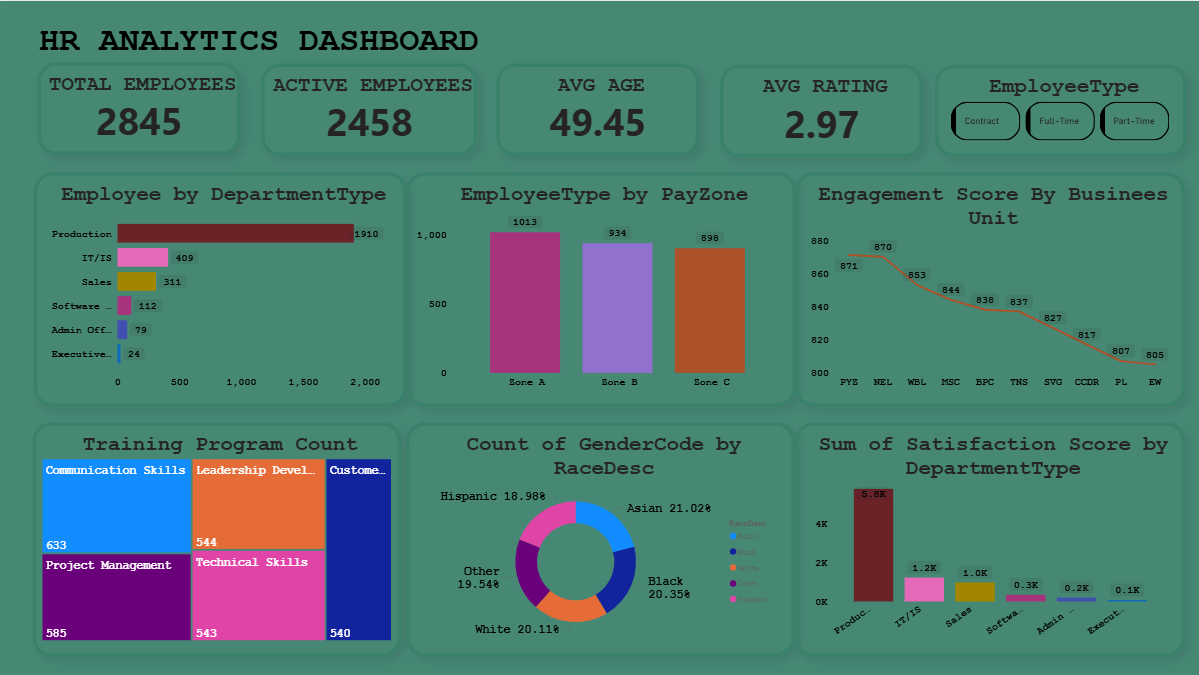

This screenshot's page, from the dashboard's own definition file:
{"tool":"powerbi","page":{"name":"HR ANALYTICS DASHBOARD","canvas":[1920,1080],"ordinal":0},"visuals":[{"type":"textbox","box":[51.9,23.4,725.3,82.1],"z":0},{"type":"card","title":"TOTAL EMPLOYEES","fields":{"Values":["CountNonNull(Cleaned_HR_Data_Analysis.Employee ID)"]},"box":[60.2,98.2,325,147.9],"z":1000},{"type":"card","title":"ACTIVE EMPLOYEES","fields":{"Values":["Cleaned_HR_Data_Analysis.Active Employees"]},"box":[417.2,100.3,345.8,147.9],"z":2000},{"type":"card","title":"AVG AGE","fields":{"Values":["Cleaned_HR_Data_Analysis.Avg Age"]},"box":[795,100.3,325,147.9],"z":3000},{"type":"card","title":"AVG RATING","fields":{"Values":["Cleaned_HR_Data_Analysis.Avg Rating"]},"box":[1151.9,102.4,325,147.9],"z":4000},{"type":"barChart","title":"Employee by DepartmentType","fields":{"Category":["Cleaned_HR_Data_Analysis.DepartmentType"],"Y":["CountNonNull(Cleaned_HR_Data_Analysis.Employee ID)"]},"box":[53.7,273.8,596.7,374.9],"z":5000},{"type":"clusteredColumnChart","title":"EmployeeType by PayZone","fields":{"Category":["Cleaned_HR_Data_Analysis.PayZone"],"Y":["CountNonNull(Cleaned_HR_Data_Analysis.EmployeeType)"]},"box":[649.3,273.8,624.2,374.9],"z":6000},{"type":"lineChart","title":"Engagement Score By Businees Unit","fields":{"Category":["Cleaned_HR_Data_Analysis.BusinessUnit"],"Y":["Sum(Cleaned_HR_Data_Analysis.Engagement Score)"]},"box":[1271.8,273.8,624.2,374.9],"z":7000},{"type":"treemap","title":"Training Program Count","fields":{"Group":["Cleaned_HR_Data_Analysis.Training Program Name"],"Values":["CountNonNull(Cleaned_HR_Data_Analysis.Training Type)"]},"box":[52.6,674.4,589.9,374.9],"z":8000},{"type":"donutChart","fields":{"Category":["Cleaned_HR_Data_Analysis.RaceDesc"],"Y":["CountNonNull(Cleaned_HR_Data_Analysis.GenderCode)"]},"box":[649.3,674.4,621.9,374.9],"z":8001},{"type":"advancedSlicerVisual","fields":{"Values":["Cleaned_HR_Data_Analysis.EmployeeType"]},"box":[1495,102.5,402.5,147.5],"z":8002},{"type":"columnChart","fields":{"Y":["Sum(Cleaned_HR_Data_Analysis.Satisfaction Score)"],"Category":["Cleaned_HR_Data_Analysis.DepartmentType"]},"box":[1272,674,624,375],"z":8003}]}

Visuals, with their boxes in screenshot pixels (x1, y1, x2, y2), scaled from the page's 1920x1080 canvas onto the 1199x675 screenshot:
textbox: <region>32, 15, 485, 66</region>
"TOTAL EMPLOYEES" card: <region>38, 61, 241, 154</region>
"ACTIVE EMPLOYEES" card: <region>261, 63, 476, 155</region>
"AVG AGE" card: <region>496, 63, 699, 155</region>
"AVG RATING" card: <region>719, 64, 922, 156</region>
"Employee by DepartmentType" barChart: <region>34, 171, 406, 405</region>
"EmployeeType by PayZone" clusteredColumnChart: <region>405, 171, 795, 405</region>
"Engagement Score By Businees Unit" lineChart: <region>794, 171, 1184, 405</region>
"Training Program Count" treemap: <region>33, 422, 401, 656</region>
donutChart - Cleaned_HR_Data_Analysis.RaceDesc x CountNonNull(Cleaned_HR_Data_Analysis.GenderCode): <region>405, 422, 794, 656</region>
advancedSlicerVisual - Cleaned_HR_Data_Analysis.EmployeeType: <region>934, 64, 1185, 156</region>
columnChart - Sum(Cleaned_HR_Data_Analysis.Satisfaction Score) x Cleaned_HR_Data_Analysis.DepartmentType: <region>794, 421, 1184, 656</region>
